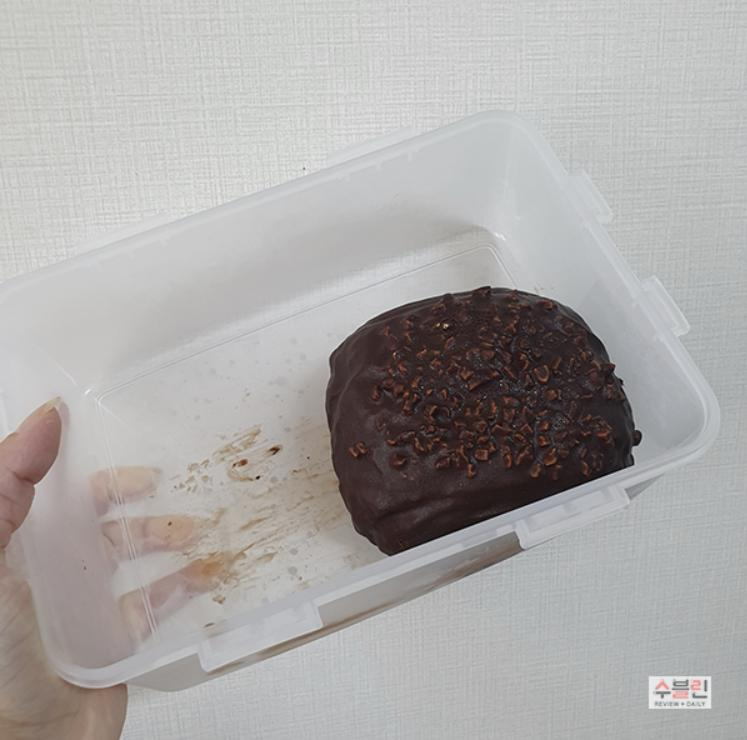Lunch Box: (0, 113, 718, 690)
